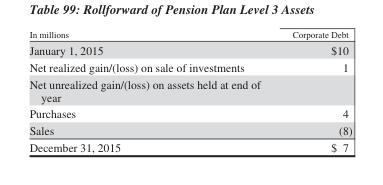table: (28, 28, 351, 153)
table column: (28, 28, 267, 153), (267, 28, 351, 153)
table column header: (28, 28, 351, 40)
table projected row header: (28, 75, 351, 105)
table row: (28, 75, 351, 105), (28, 40, 351, 58), (28, 58, 351, 75), (28, 121, 351, 138), (28, 105, 351, 121), (28, 138, 351, 153), (28, 28, 351, 40)
